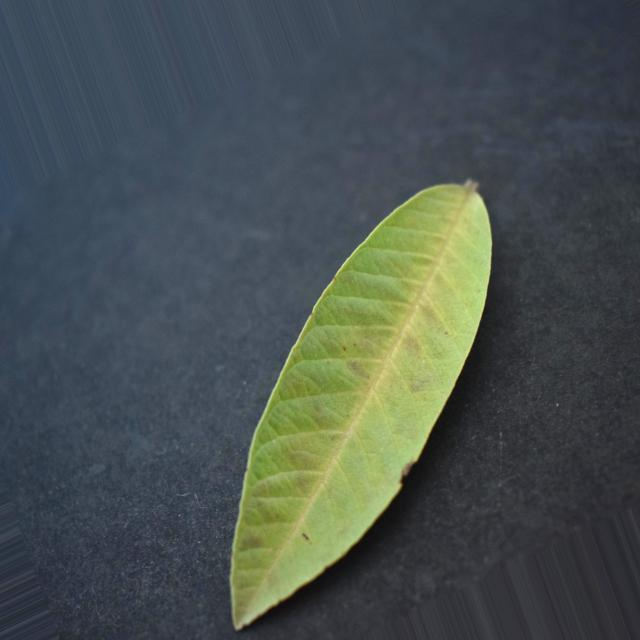Healthy: (231, 182, 491, 630)
